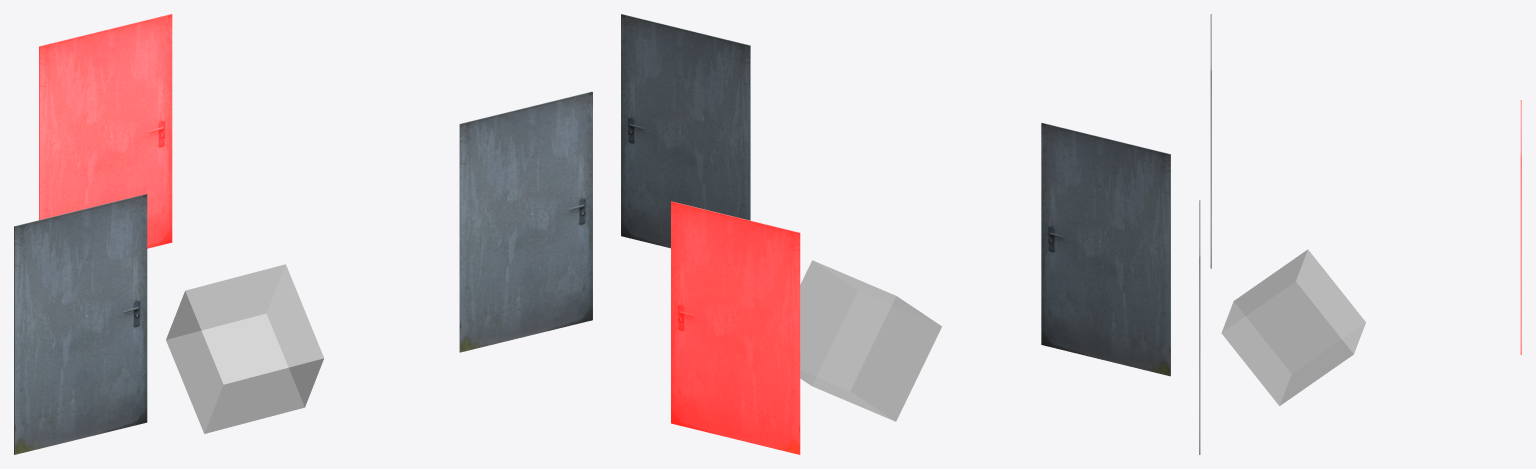
The model's file is teste.gltf.
The picture shows the model from 3 angles, left to right: view 1: azimuth 30°, elevation 25°; view 2: azimuth 150°, elevation 25°; view 3: azimuth 270°, elevation 25°; orthographic projection. The views are drawn at different scales.
Visible parts, largest first — view 1: door2.001, door2.002, door2, cube; view 2: door2, door2.001, door2.002, cube; view 3: cube, door2, door2.001, door2.002.
Boxes of the visible parts, left/top/right/bottom form: door2.001: left=14, top=194, right=147, bottom=454; door2.002: left=459, top=91, right=592, bottom=352; door2: left=39, top=14, right=172, bottom=248; cube: left=166, top=264, right=324, bottom=433; door2: left=671, top=201, right=800, bottom=454; door2.001: left=1041, top=123, right=1170, bottom=376; door2.002: left=621, top=14, right=750, bottom=248; cube: left=800, top=260, right=941, bottom=421; cube: left=1221, top=249, right=1365, bottom=405; door2: left=1520, top=100, right=1521, bottom=354; door2.001: left=1210, top=14, right=1211, bottom=268; door2.002: left=1199, top=200, right=1200, bottom=454.
Size of the model in its own units: 6.03 by 3.01 by 3.38.
